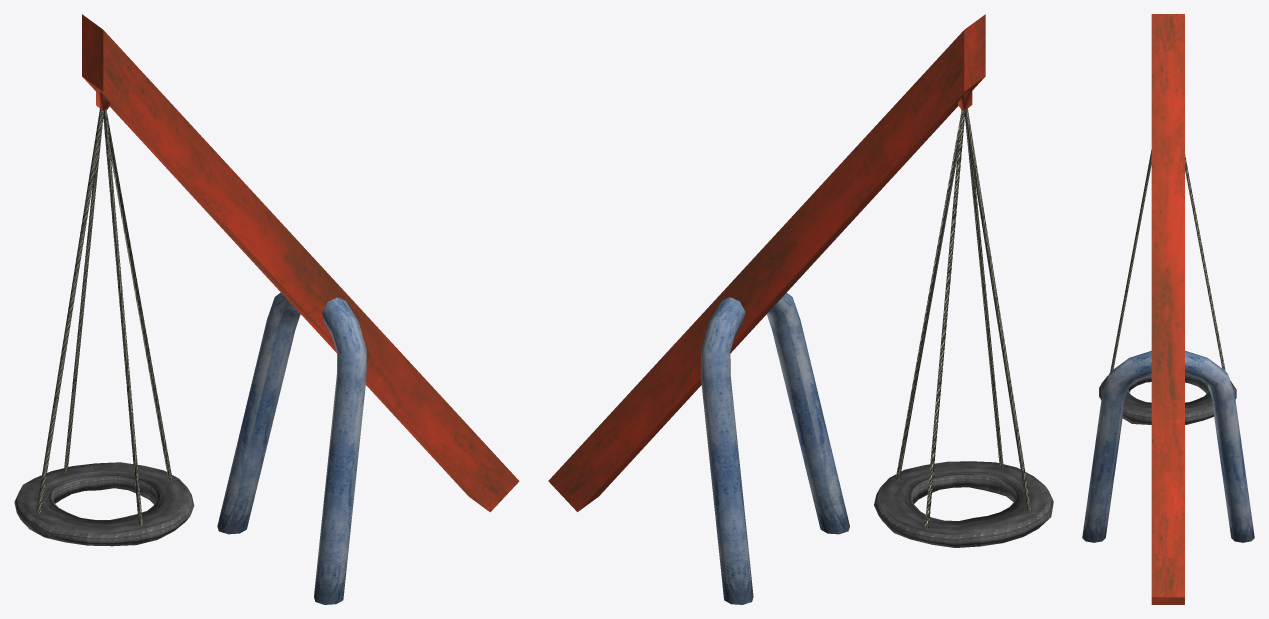
File: Model_TireSwing_02.fbx
3 views of the same model, side by side, from view 1: azimuth 30°, elevation 25°; view 2: azimuth 150°, elevation 25°; view 3: azimuth 270°, elevation 25° (orthographic). The views are drawn at different scales.
Visible parts, largest first — view 1: TireSwomg_2; view 2: TireSwomg_2; view 3: TireSwomg_2.
Boxes of the visible parts, x1,y1,x2,y2 form: TireSwomg_2: [14, 14, 519, 604]; TireSwomg_2: [548, 14, 1053, 604]; TireSwomg_2: [1082, 14, 1254, 604].
Bounding box in the file's own units: 288 × 334 × 115.
